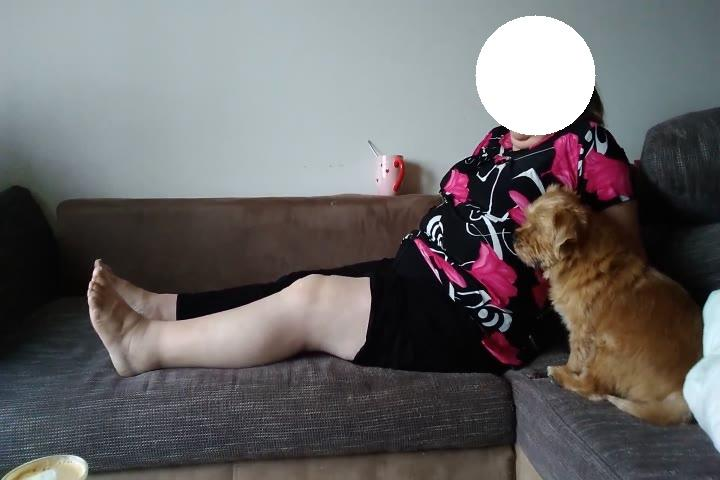lowerbody: (80, 242, 530, 384)
